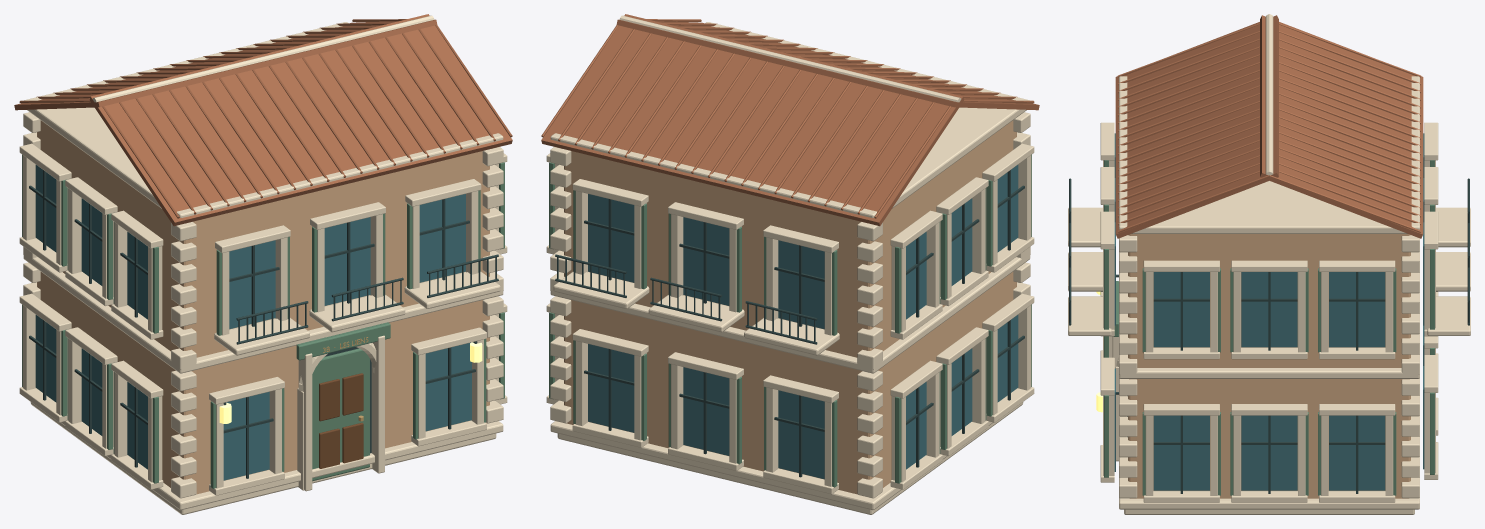
File: italie-2.glb
3 renders of one model, left to right at view 1: azimuth 30°, elevation 25°; view 2: azimuth 150°, elevation 25°; view 3: azimuth 270°, elevation 25°, orthographic. The views are drawn at different scales.
Parts seen in each view (by area): view 1: italie-2_Dressed stone, italie-2_Regional roof, italie-2_Masonry plaster, italie-2_Window blue, italie-2_Regional painted wood, italie-2_Forged midnight, italie-2_Walnut; view 2: italie-2_Dressed stone, italie-2_Regional roof, italie-2_Masonry plaster, italie-2_Window blue, italie-2_Regional painted wood, italie-2_Forged midnight; view 3: italie-2_Dressed stone, italie-2_Regional roof, italie-2_Window blue, italie-2_Masonry plaster, italie-2_Regional painted wood, italie-2_Forged midnight.
Boxes of the visible parts, bbox=[...] form: italie-2_Dressed stone: bbox=[19, 15, 507, 514]; italie-2_Regional roof: bbox=[14, 14, 512, 226]; italie-2_Masonry plaster: bbox=[37, 120, 489, 494]; italie-2_Window blue: bbox=[35, 165, 471, 480]; italie-2_Regional painted wood: bbox=[22, 154, 504, 488]; italie-2_Forged midnight: bbox=[29, 170, 498, 478]; italie-2_Walnut: bbox=[319, 373, 363, 468]; italie-2_Dressed stone: bbox=[546, 15, 1034, 514]; italie-2_Regional roof: bbox=[541, 14, 1039, 226]; italie-2_Masonry plaster: bbox=[564, 120, 1016, 494]; italie-2_Window blue: bbox=[588, 165, 1018, 479]; italie-2_Regional painted wood: bbox=[549, 154, 1031, 487]; italie-2_Forged midnight: bbox=[555, 170, 1024, 477]; italie-2_Dressed stone: bbox=[1068, 14, 1470, 514]; italie-2_Regional roof: bbox=[1115, 15, 1423, 238]; italie-2_Window blue: bbox=[1114, 133, 1424, 490]; italie-2_Masonry plaster: bbox=[1128, 234, 1410, 498]; italie-2_Regional painted wood: bbox=[1104, 160, 1434, 495]; italie-2_Forged midnight: bbox=[1069, 178, 1469, 493].
Size of the model in its own units: 13.94 by 13.63 by 14.25.
